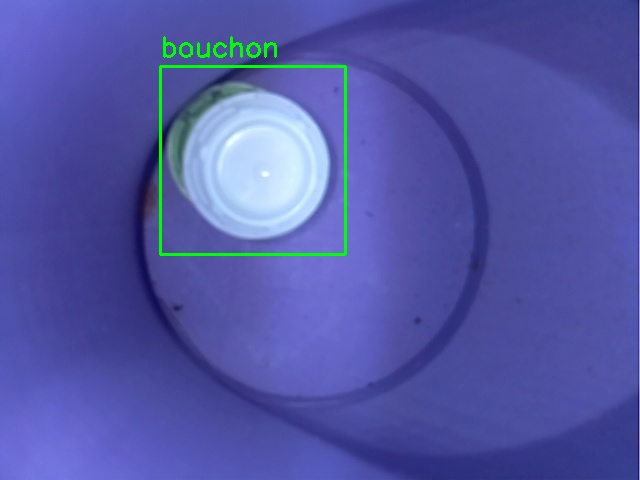bouchon: (160, 66, 345, 254)
